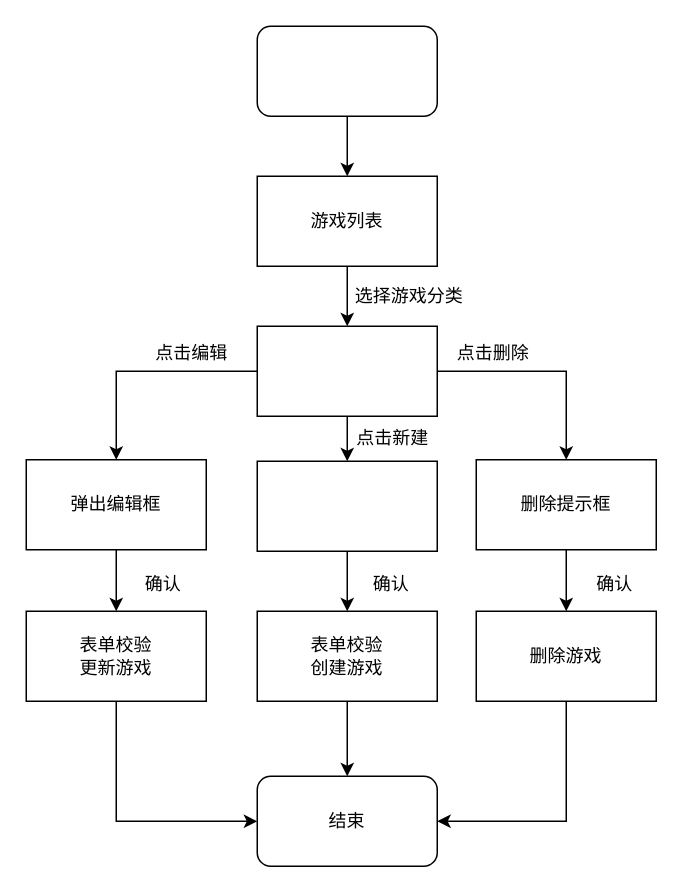
Some shapes in this 683 by 893 pixel diagram are drawn without their labels. The shapes that lost their labels are listed below. From the top down, each one's centre as x and y in pixels, then its label:
At (x=346, y=70): "开始".
At (x=346, y=370): "显示对应分类下的游戏列表 展示创建按钮".
At (x=346, y=505): "弹出新建框".
